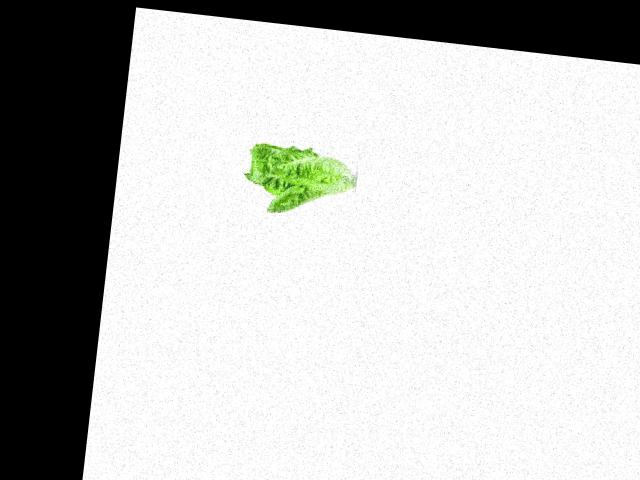lettuce: (239, 136, 355, 221)
